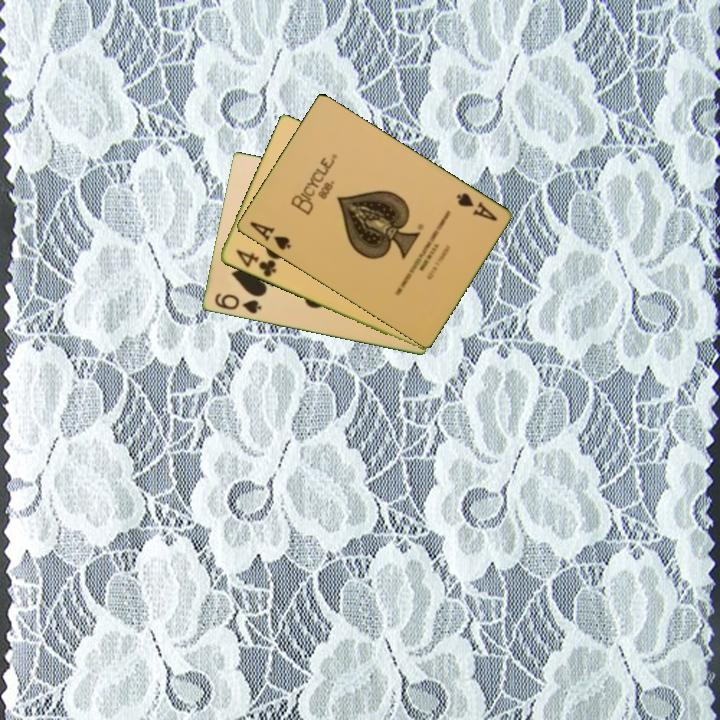4c: (232, 246, 279, 280)
6s: (211, 290, 264, 317)
As: (246, 218, 294, 253), (452, 189, 500, 224)
